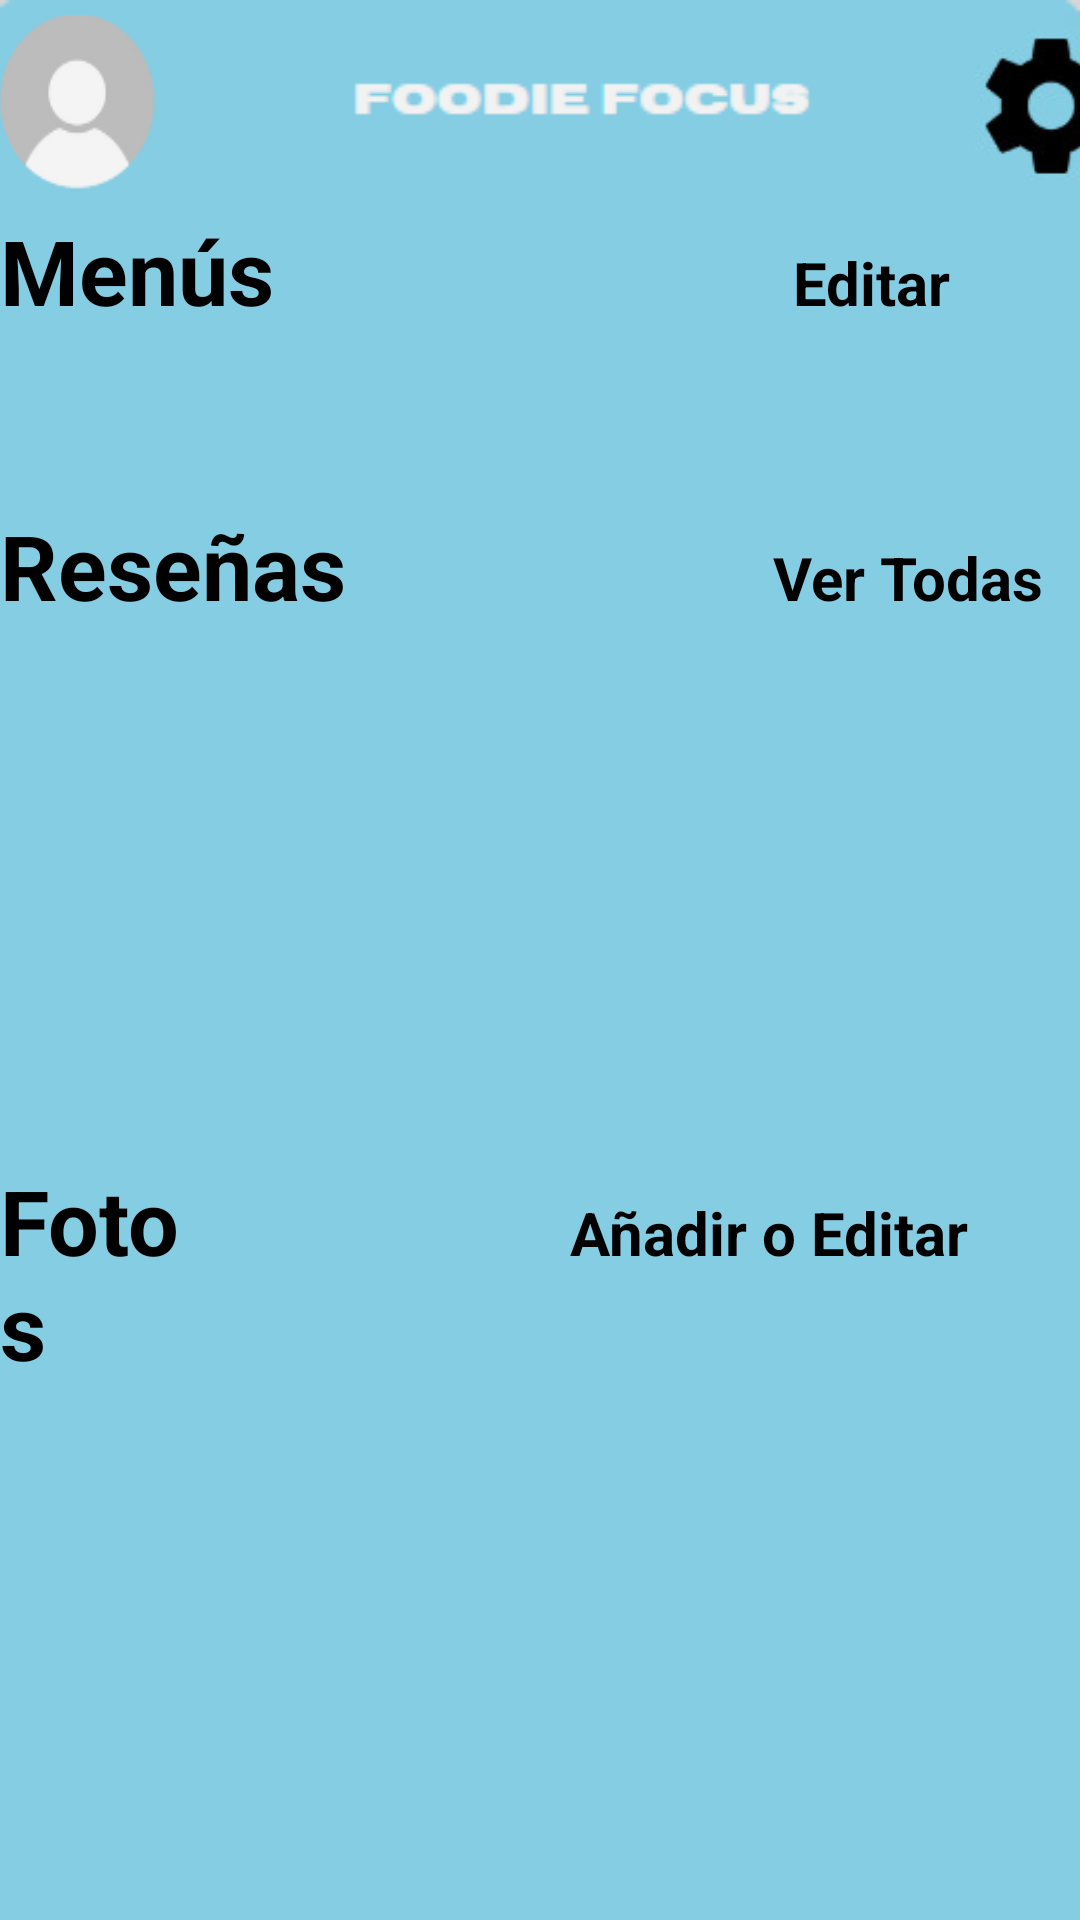

Locate icon controls on the screen. Image size 1080x1920, boxes as (x1, y1, x2, y2).
perfil: (0, 15, 155, 189)
